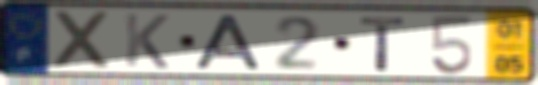2: (272, 14, 326, 72)
5: (429, 14, 475, 77)
A: (192, 13, 266, 71)
K: (122, 11, 172, 71)
T: (357, 15, 410, 73)
X: (51, 8, 115, 71)
